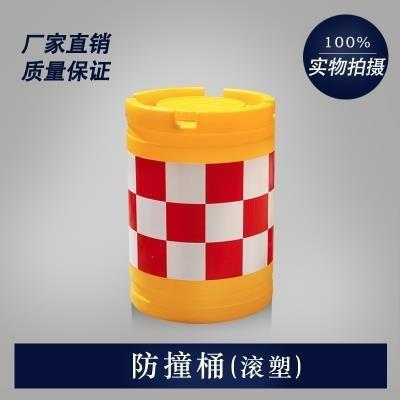cone_barrel: (120, 84, 273, 325)
